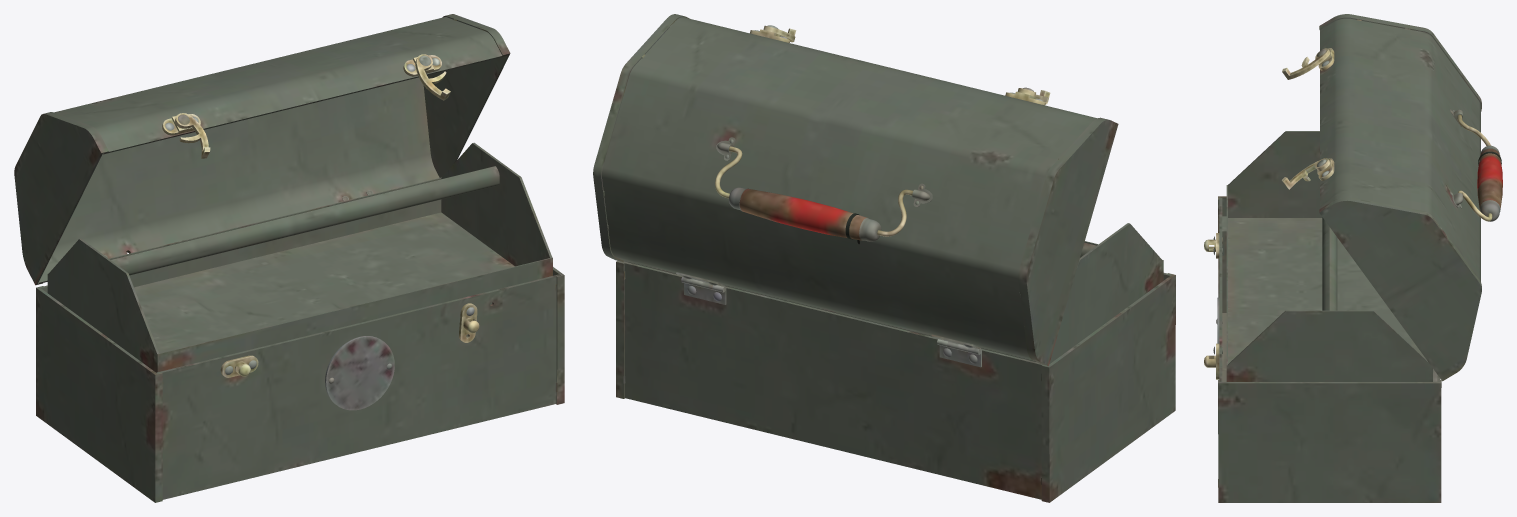
The model's file is toolbox.glb.
3 views of the same model, side by side, from view 1: azimuth 30°, elevation 25°; view 2: azimuth 150°, elevation 25°; view 3: azimuth 270°, elevation 25° (orthographic). The views are drawn at different scales.
Visible parts, largest first — view 1: metal_toolbox; view 2: metal_toolbox; view 3: metal_toolbox.
Part boxes in pixels (x1,y1,x2,y2): metal_toolbox: (14, 14, 564, 502); metal_toolbox: (593, 14, 1175, 502); metal_toolbox: (1204, 14, 1502, 502).
Size of the model in its own units: 0.4 by 0.3047 by 0.2705.
1 material, 1 textured.
